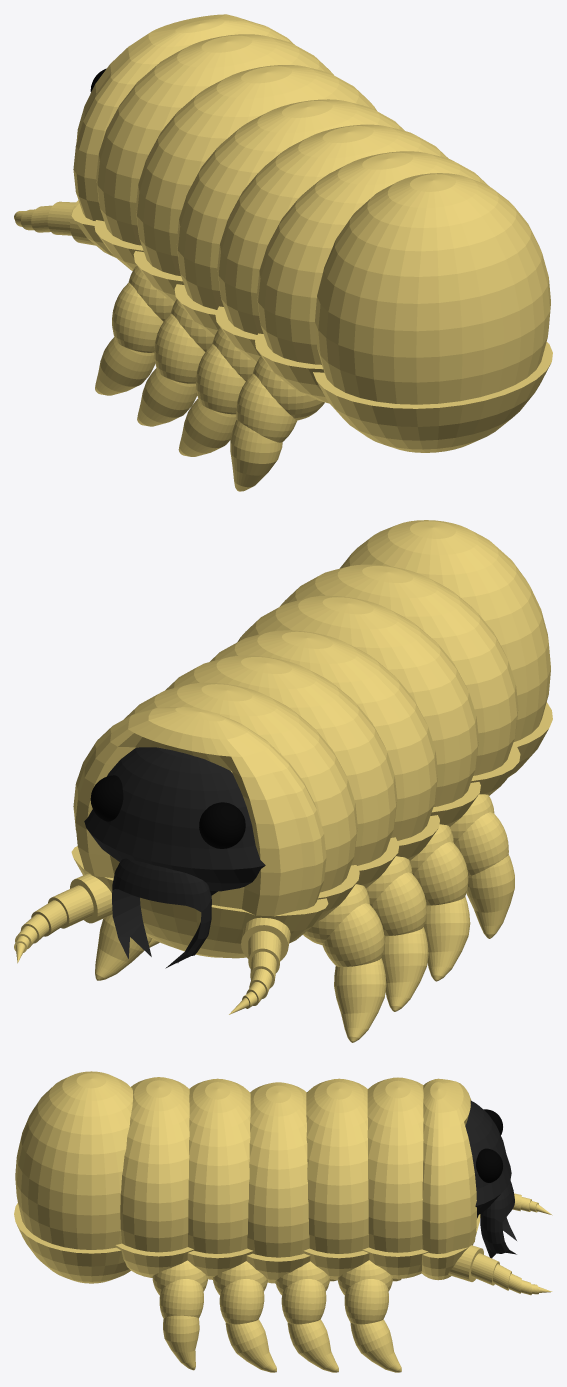
File: squishgrub_fbx.fbx
3 renders of one model, top to bottom at view 1: azimuth 30°, elevation 25°; view 2: azimuth 150°, elevation 25°; view 3: azimuth 270°, elevation 25°, orthographic. The views are drawn at different scales.
Visible parts, largest first — view 1: Sphere.006; view 2: Sphere.006; view 3: Sphere.006.
Boxes of the visible parts, box(x1,y1,x2,y2) form: Sphere.006: box(14, 14, 552, 491); Sphere.006: box(14, 520, 552, 1042); Sphere.006: box(14, 1071, 552, 1372).
Size of the model in its own units: 38.1 by 43.28 by 85.44.
